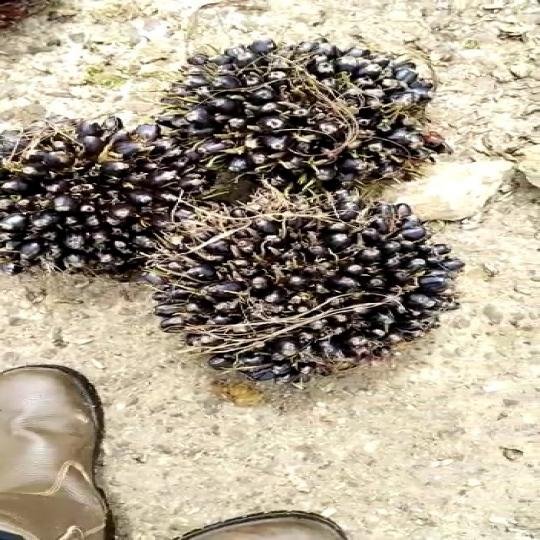mentah: (135, 177, 491, 392), (143, 32, 457, 187), (0, 113, 222, 277)
